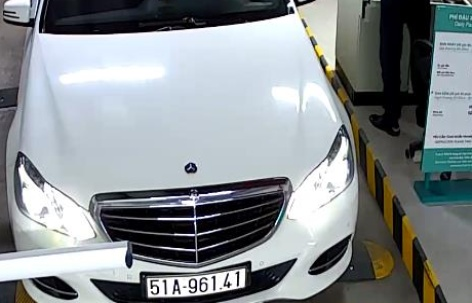plate: (141, 268, 253, 301)
